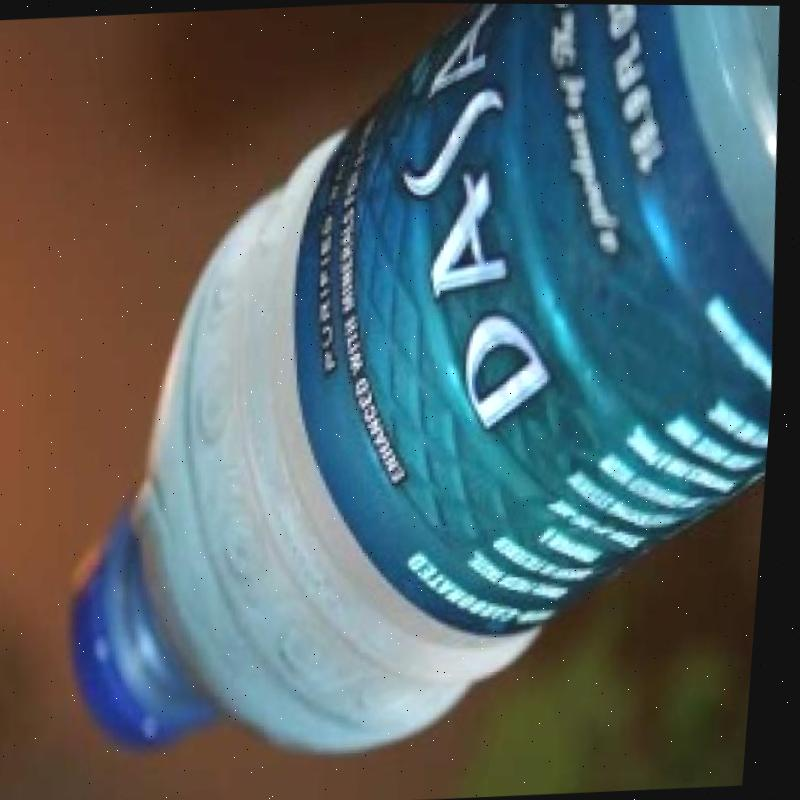botella: (34, 0, 800, 770)
